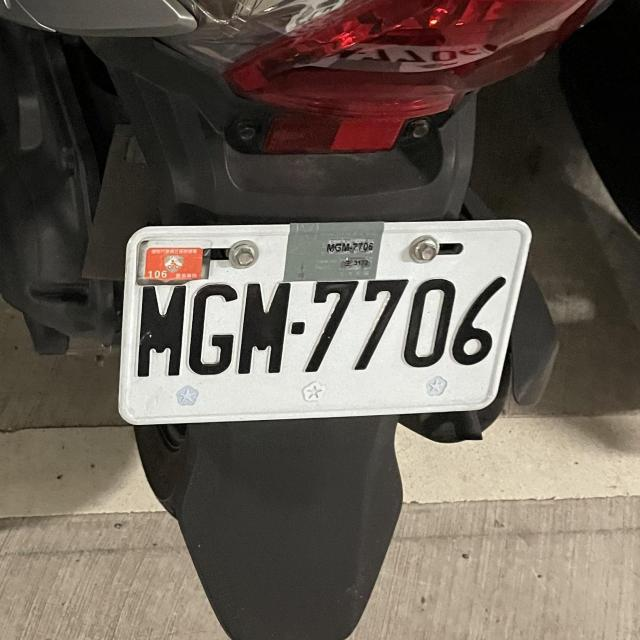W: (117, 206, 533, 424)
